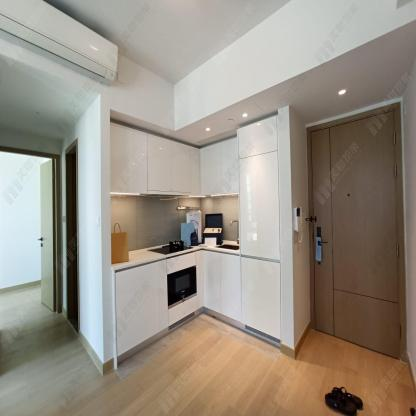Faucet: (229, 218, 239, 243)
Oven: (167, 266, 197, 309)
Sink: (206, 240, 239, 254)
Stove: (140, 238, 198, 257)
